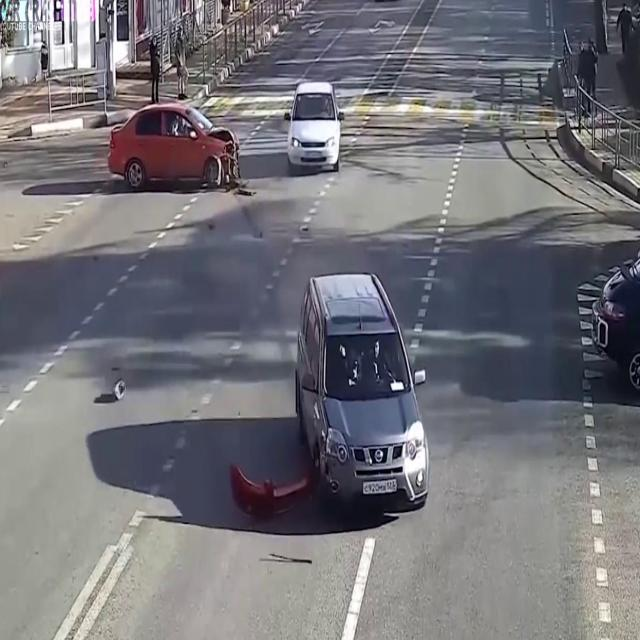accident: (220, 264, 433, 534), (97, 90, 253, 202)
